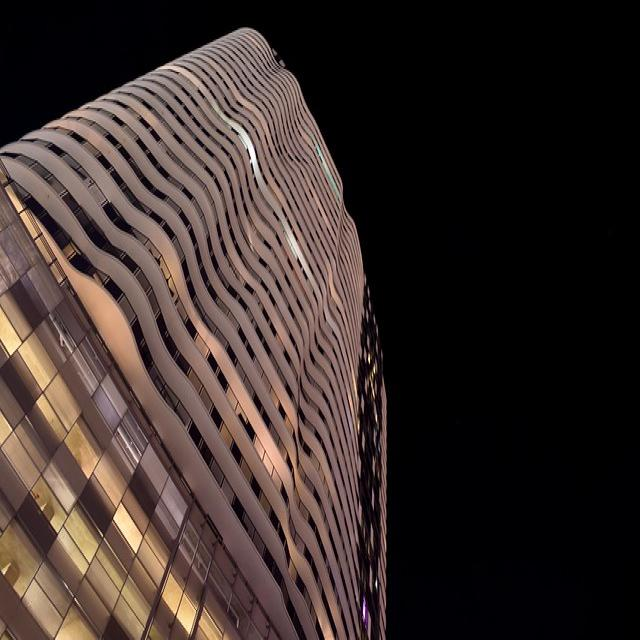Normal_building: (0, 22, 392, 630)
